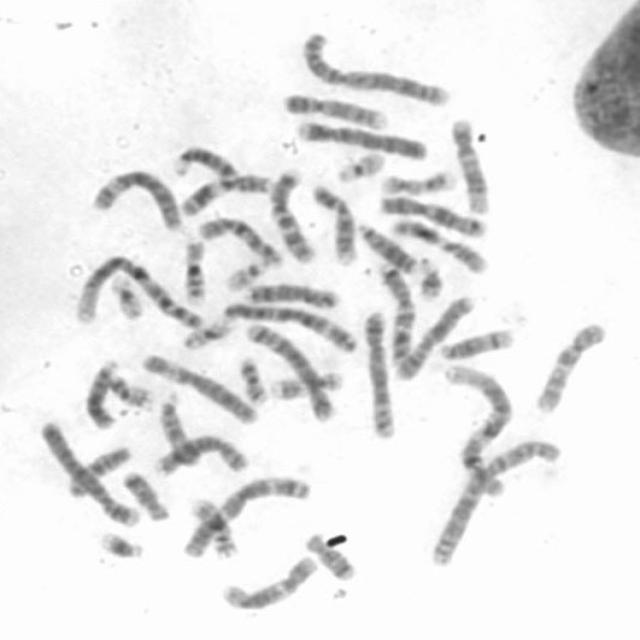A1: (442, 361, 514, 498), (72, 255, 205, 329)
A2: (429, 439, 563, 570), (299, 32, 453, 111)
A3: (182, 474, 312, 560), (223, 301, 358, 355)
B4: (39, 420, 141, 528), (293, 119, 430, 162)
B5: (245, 322, 336, 422), (360, 312, 399, 441)
C10: (534, 324, 607, 414), (194, 215, 284, 270)
C11: (392, 218, 489, 276), (180, 174, 271, 218)
C12: (221, 555, 318, 611), (450, 117, 490, 216)
C6: (139, 353, 259, 426), (90, 170, 184, 232)
C7: (268, 170, 314, 261), (378, 261, 416, 366)
C8: (154, 434, 252, 476), (243, 282, 340, 310)
C9: (310, 183, 360, 268), (281, 93, 389, 131)
D13: (356, 220, 417, 276), (80, 358, 120, 432)
D14: (434, 325, 517, 363), (175, 146, 237, 190)
D15: (64, 445, 131, 499), (159, 395, 204, 468)
E16: (188, 497, 237, 557), (181, 236, 207, 308)
E17: (270, 369, 347, 402), (380, 172, 456, 195)
E18: (121, 469, 171, 524), (305, 533, 354, 582)
F19: (181, 318, 235, 352), (108, 273, 144, 322)
F20: (110, 375, 154, 411), (237, 357, 269, 406)
G21: (96, 530, 146, 562), (416, 254, 443, 302)
G22: (220, 258, 272, 294), (336, 152, 388, 183)
X: (393, 295, 476, 384), (380, 196, 487, 239)
